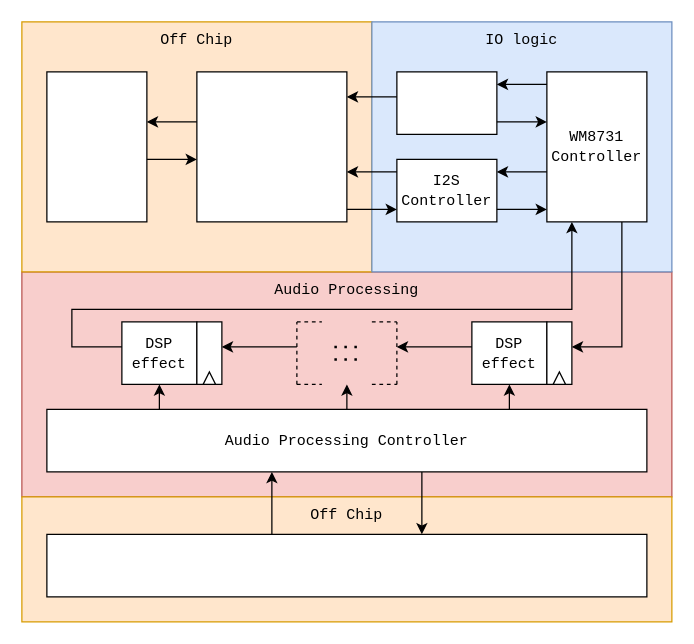
Some shapes in this 694 by 644 pixel diagram are drawn without their labels. The shapes that lost their labels are listed below. From the top down, each one's centre as x and y in pixels, then its label:
the point at 446,102: I2C Controller
the point at 96,146: Jack Connectors
the point at 271,146: WM8731 Audio CODEC
the point at 346,565: Buttons, switches, displays and LED's
